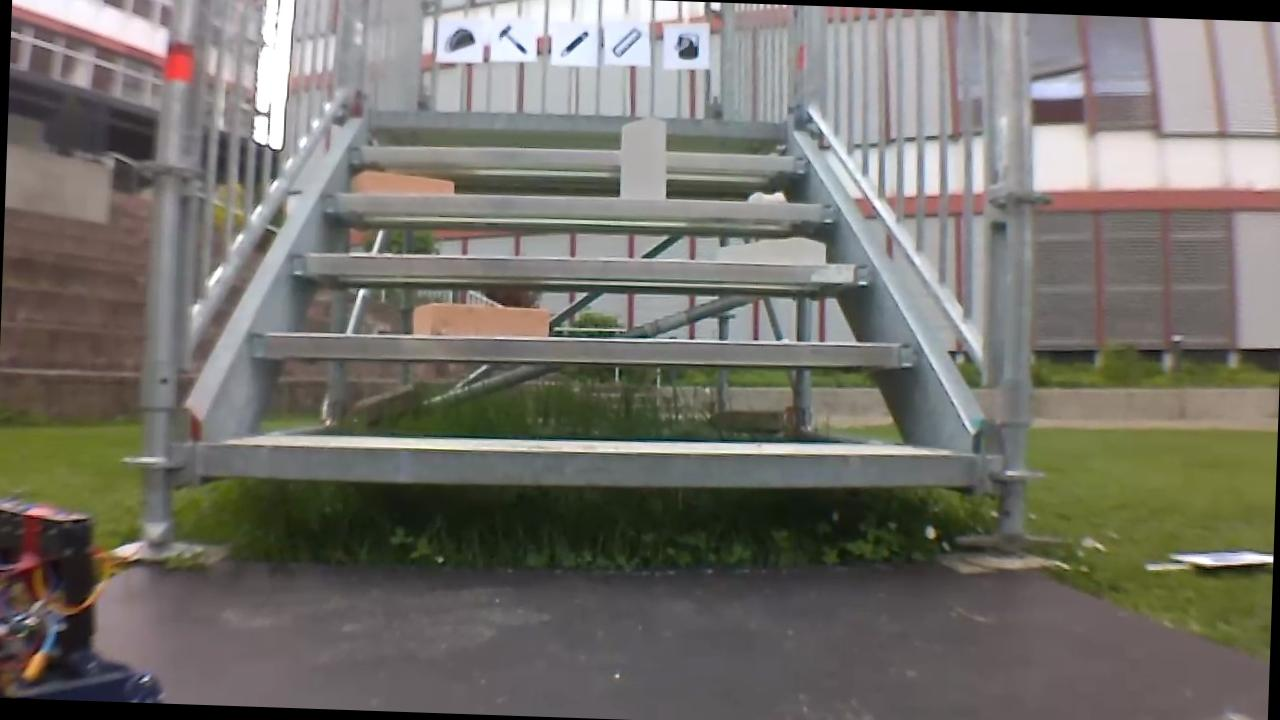brick: (411, 300, 550, 338), (619, 117, 667, 199), (722, 233, 826, 264), (351, 170, 452, 197)
bucket: (669, 26, 701, 61)
edge: (201, 428, 979, 501), (248, 322, 916, 375), (287, 245, 872, 290), (321, 185, 835, 222), (351, 140, 805, 172), (364, 107, 788, 139)
hammer: (493, 21, 532, 57)
pencil: (556, 23, 591, 62)
ruler: (609, 23, 645, 59)
steps: (190, 97, 996, 507)
taco: (440, 21, 476, 56)
